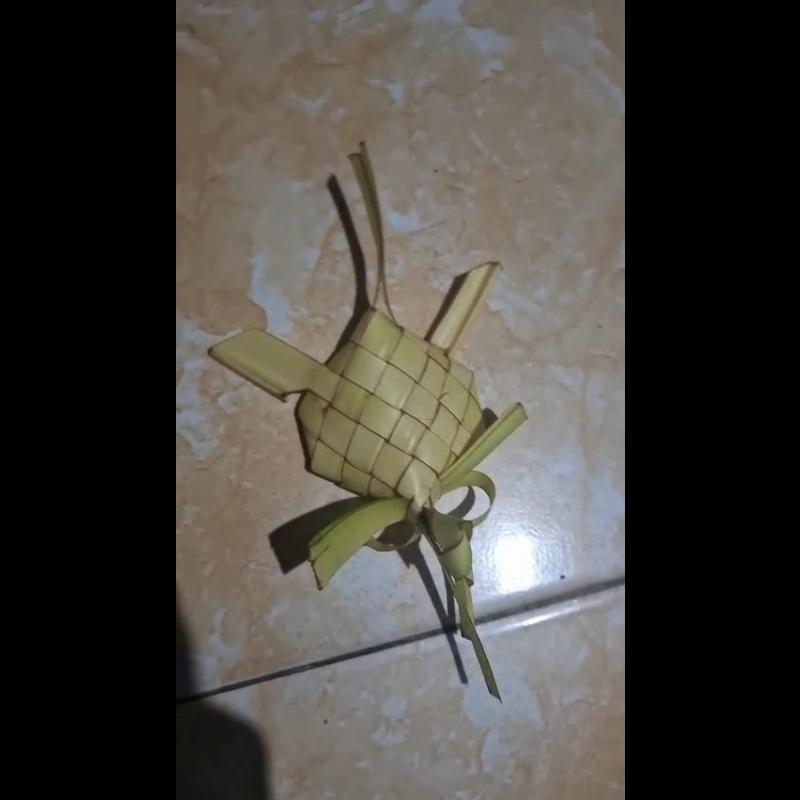Tipat Dampulan: (203, 143, 533, 700)
